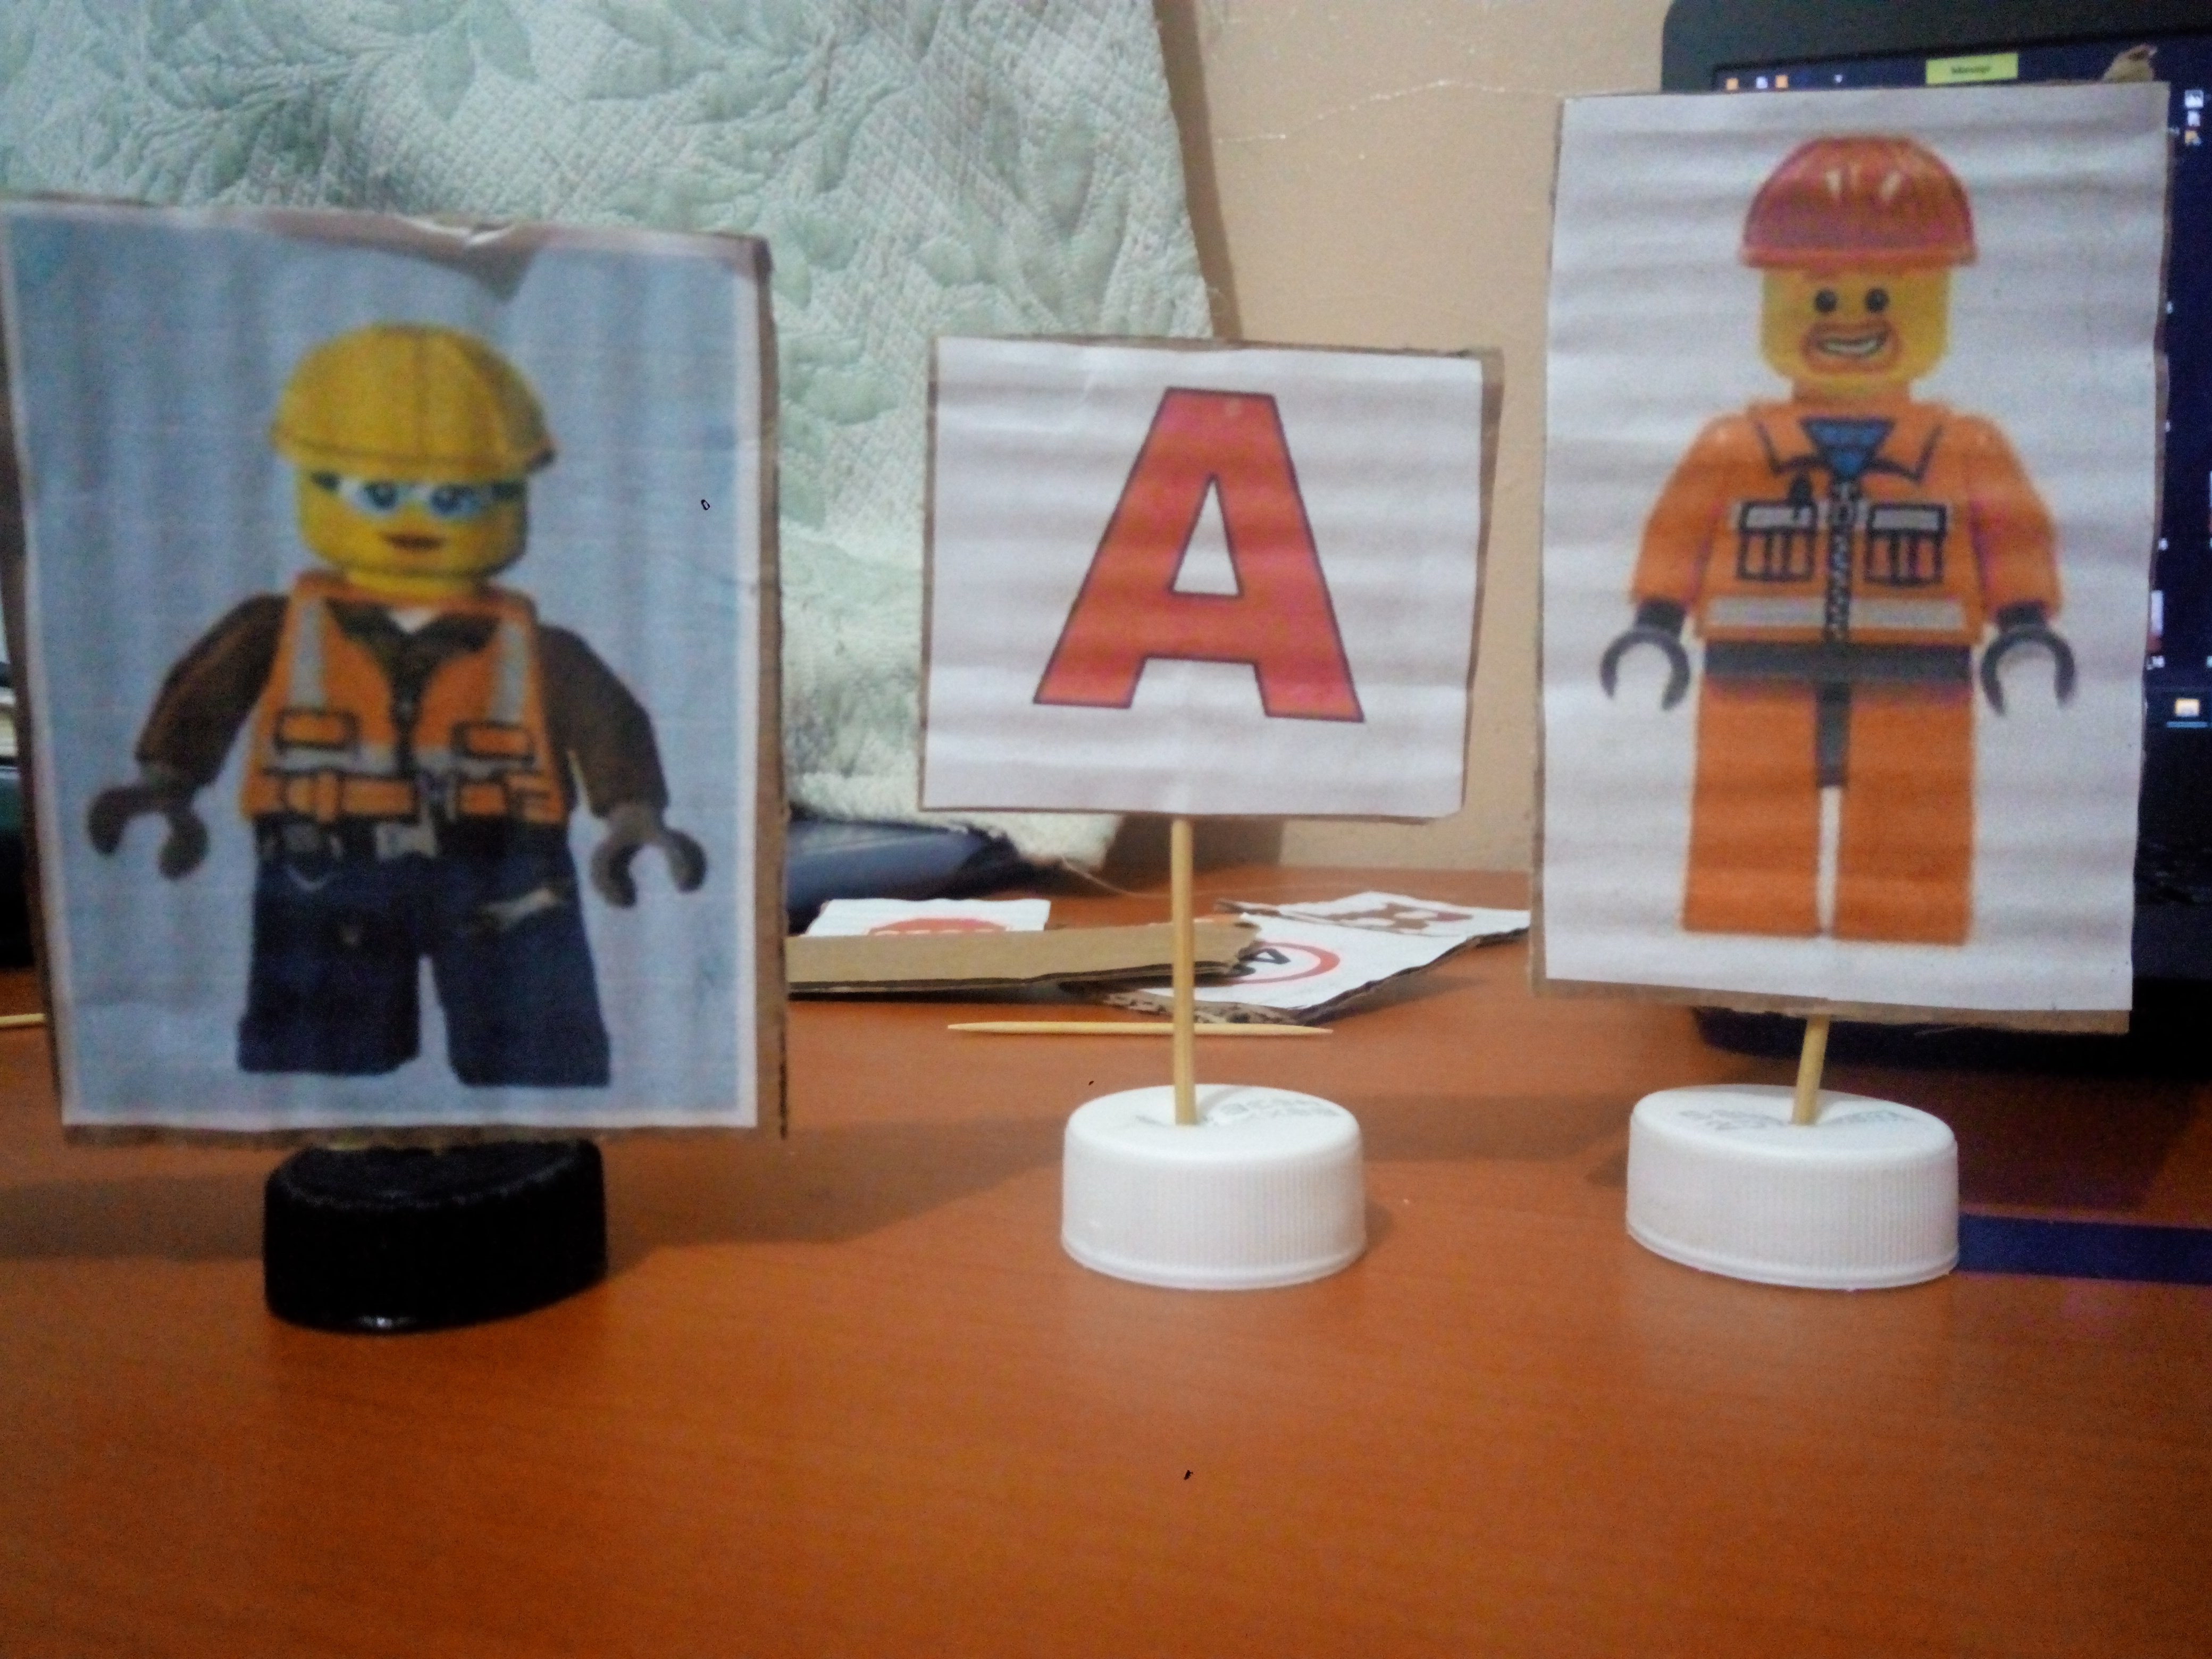pedestrian: (77, 270, 722, 1097), (1580, 115, 2109, 956)
zone A: (1001, 376, 1411, 751)
